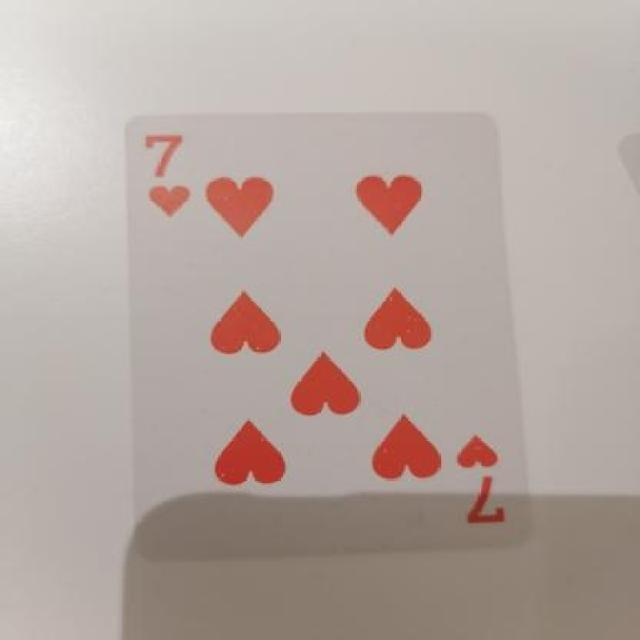7H: (437, 419, 518, 539), (142, 123, 202, 234)
